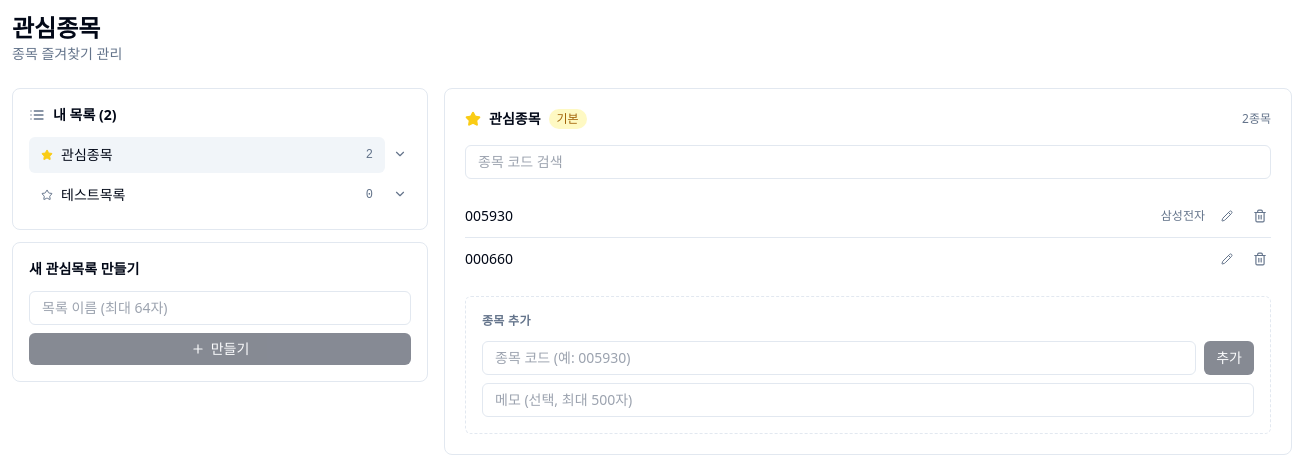
Scenario: WatchlistListItem — rename › shows 409 error when rename conflicts with existing name
Click the button with test id "watchlist-menu-toggle-2" at [400, 194], box [389,183,411,205]
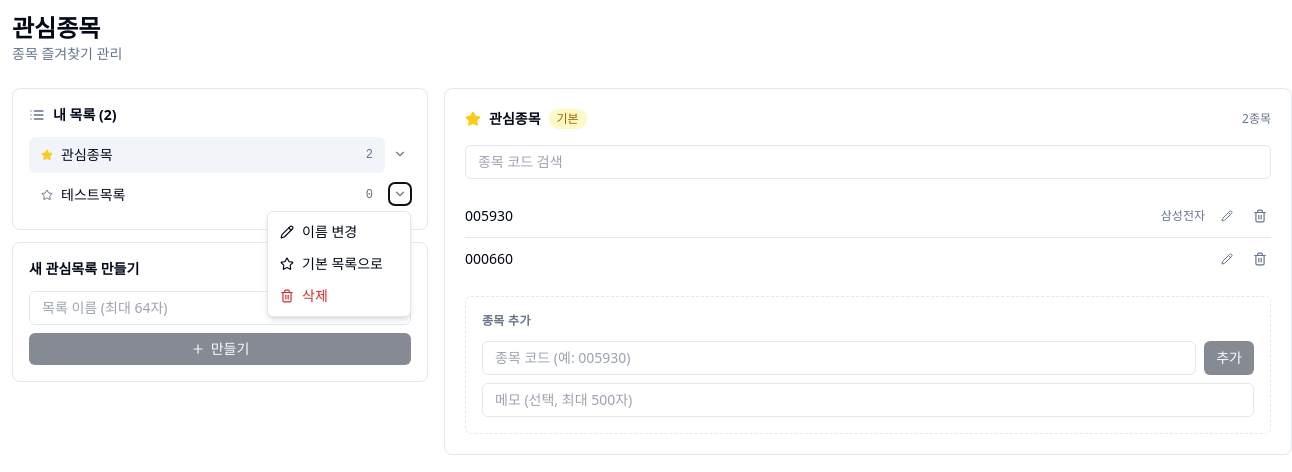
Expected: the button with test id "watchlist-rename-btn-2" is shown
Click the button with test id "watchlist-rename-btn-2" at [339, 232], box [268,216,410,248]
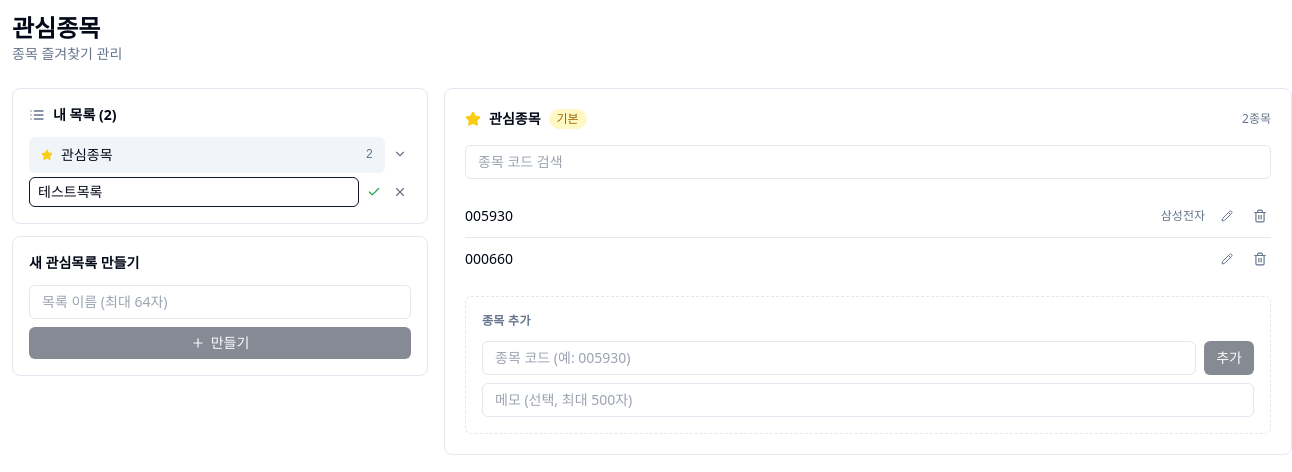
Replace the text in the field with test id "watchlist-rename-input-2" with "관심종목" at [194, 192], box [29,177,359,207]
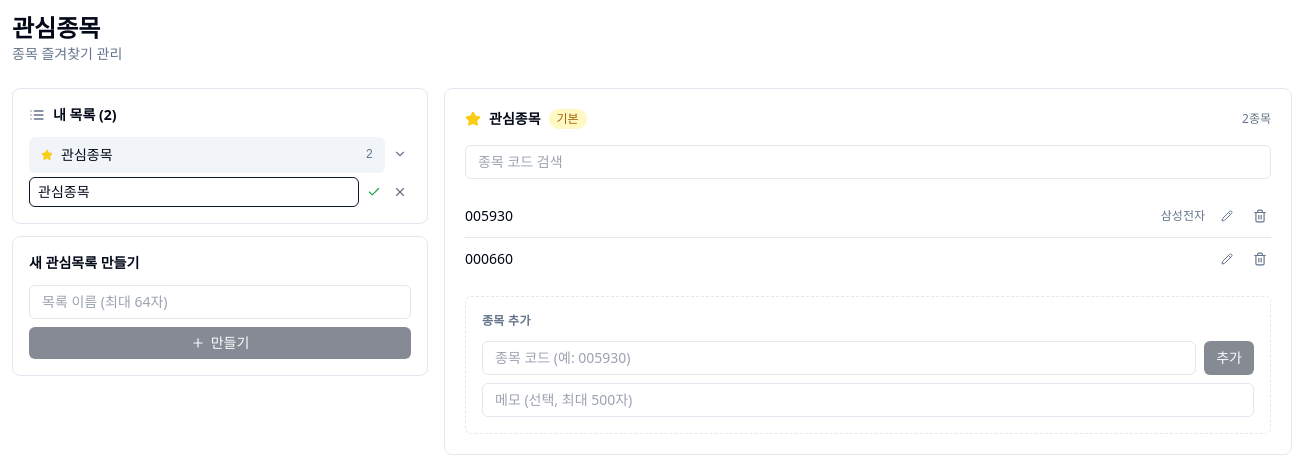
Click the button with test id "watchlist-rename-confirm-2" at [374, 192], box [363,181,385,203]
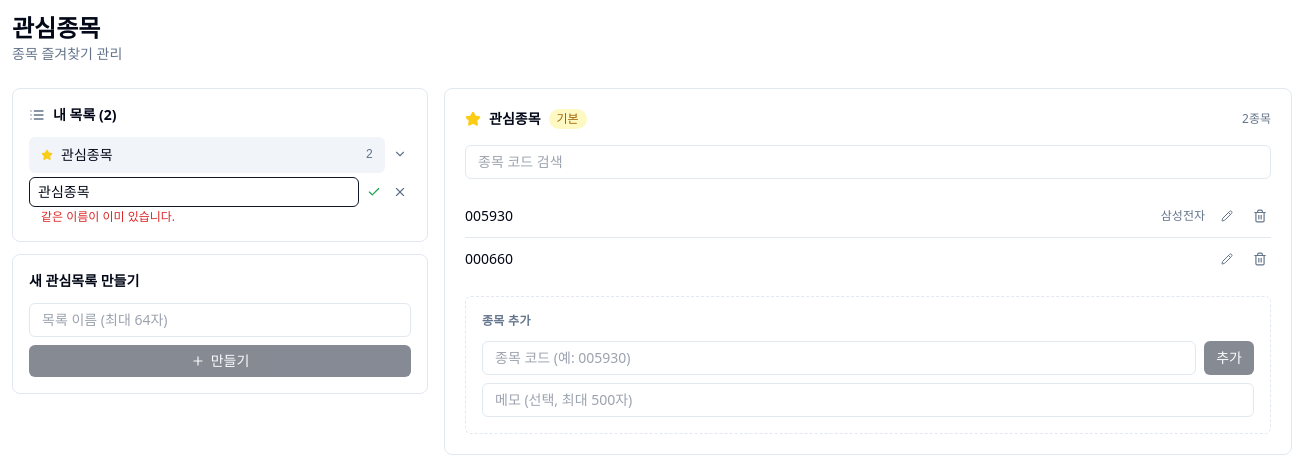
Expected: the message with test id "watchlist-rename-error-2" reads "같은 이름이 이미 있습니다.", [41,208,175,225]
